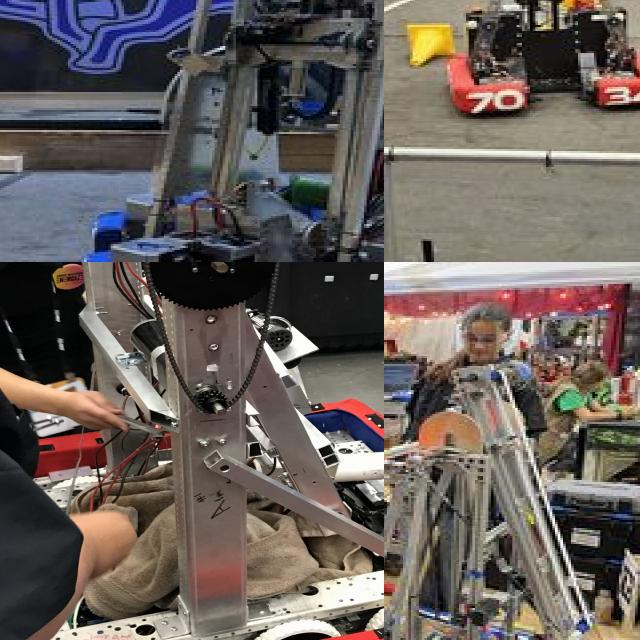FRC-Robots: (0, 262, 384, 640), (36, 0, 384, 262), (384, 429, 640, 640), (389, 0, 640, 123)
